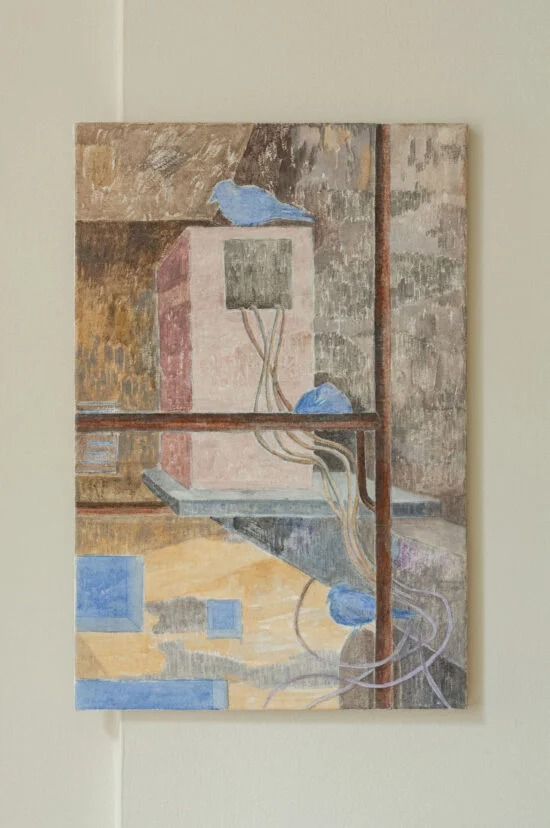painting: (74, 122, 469, 712)
